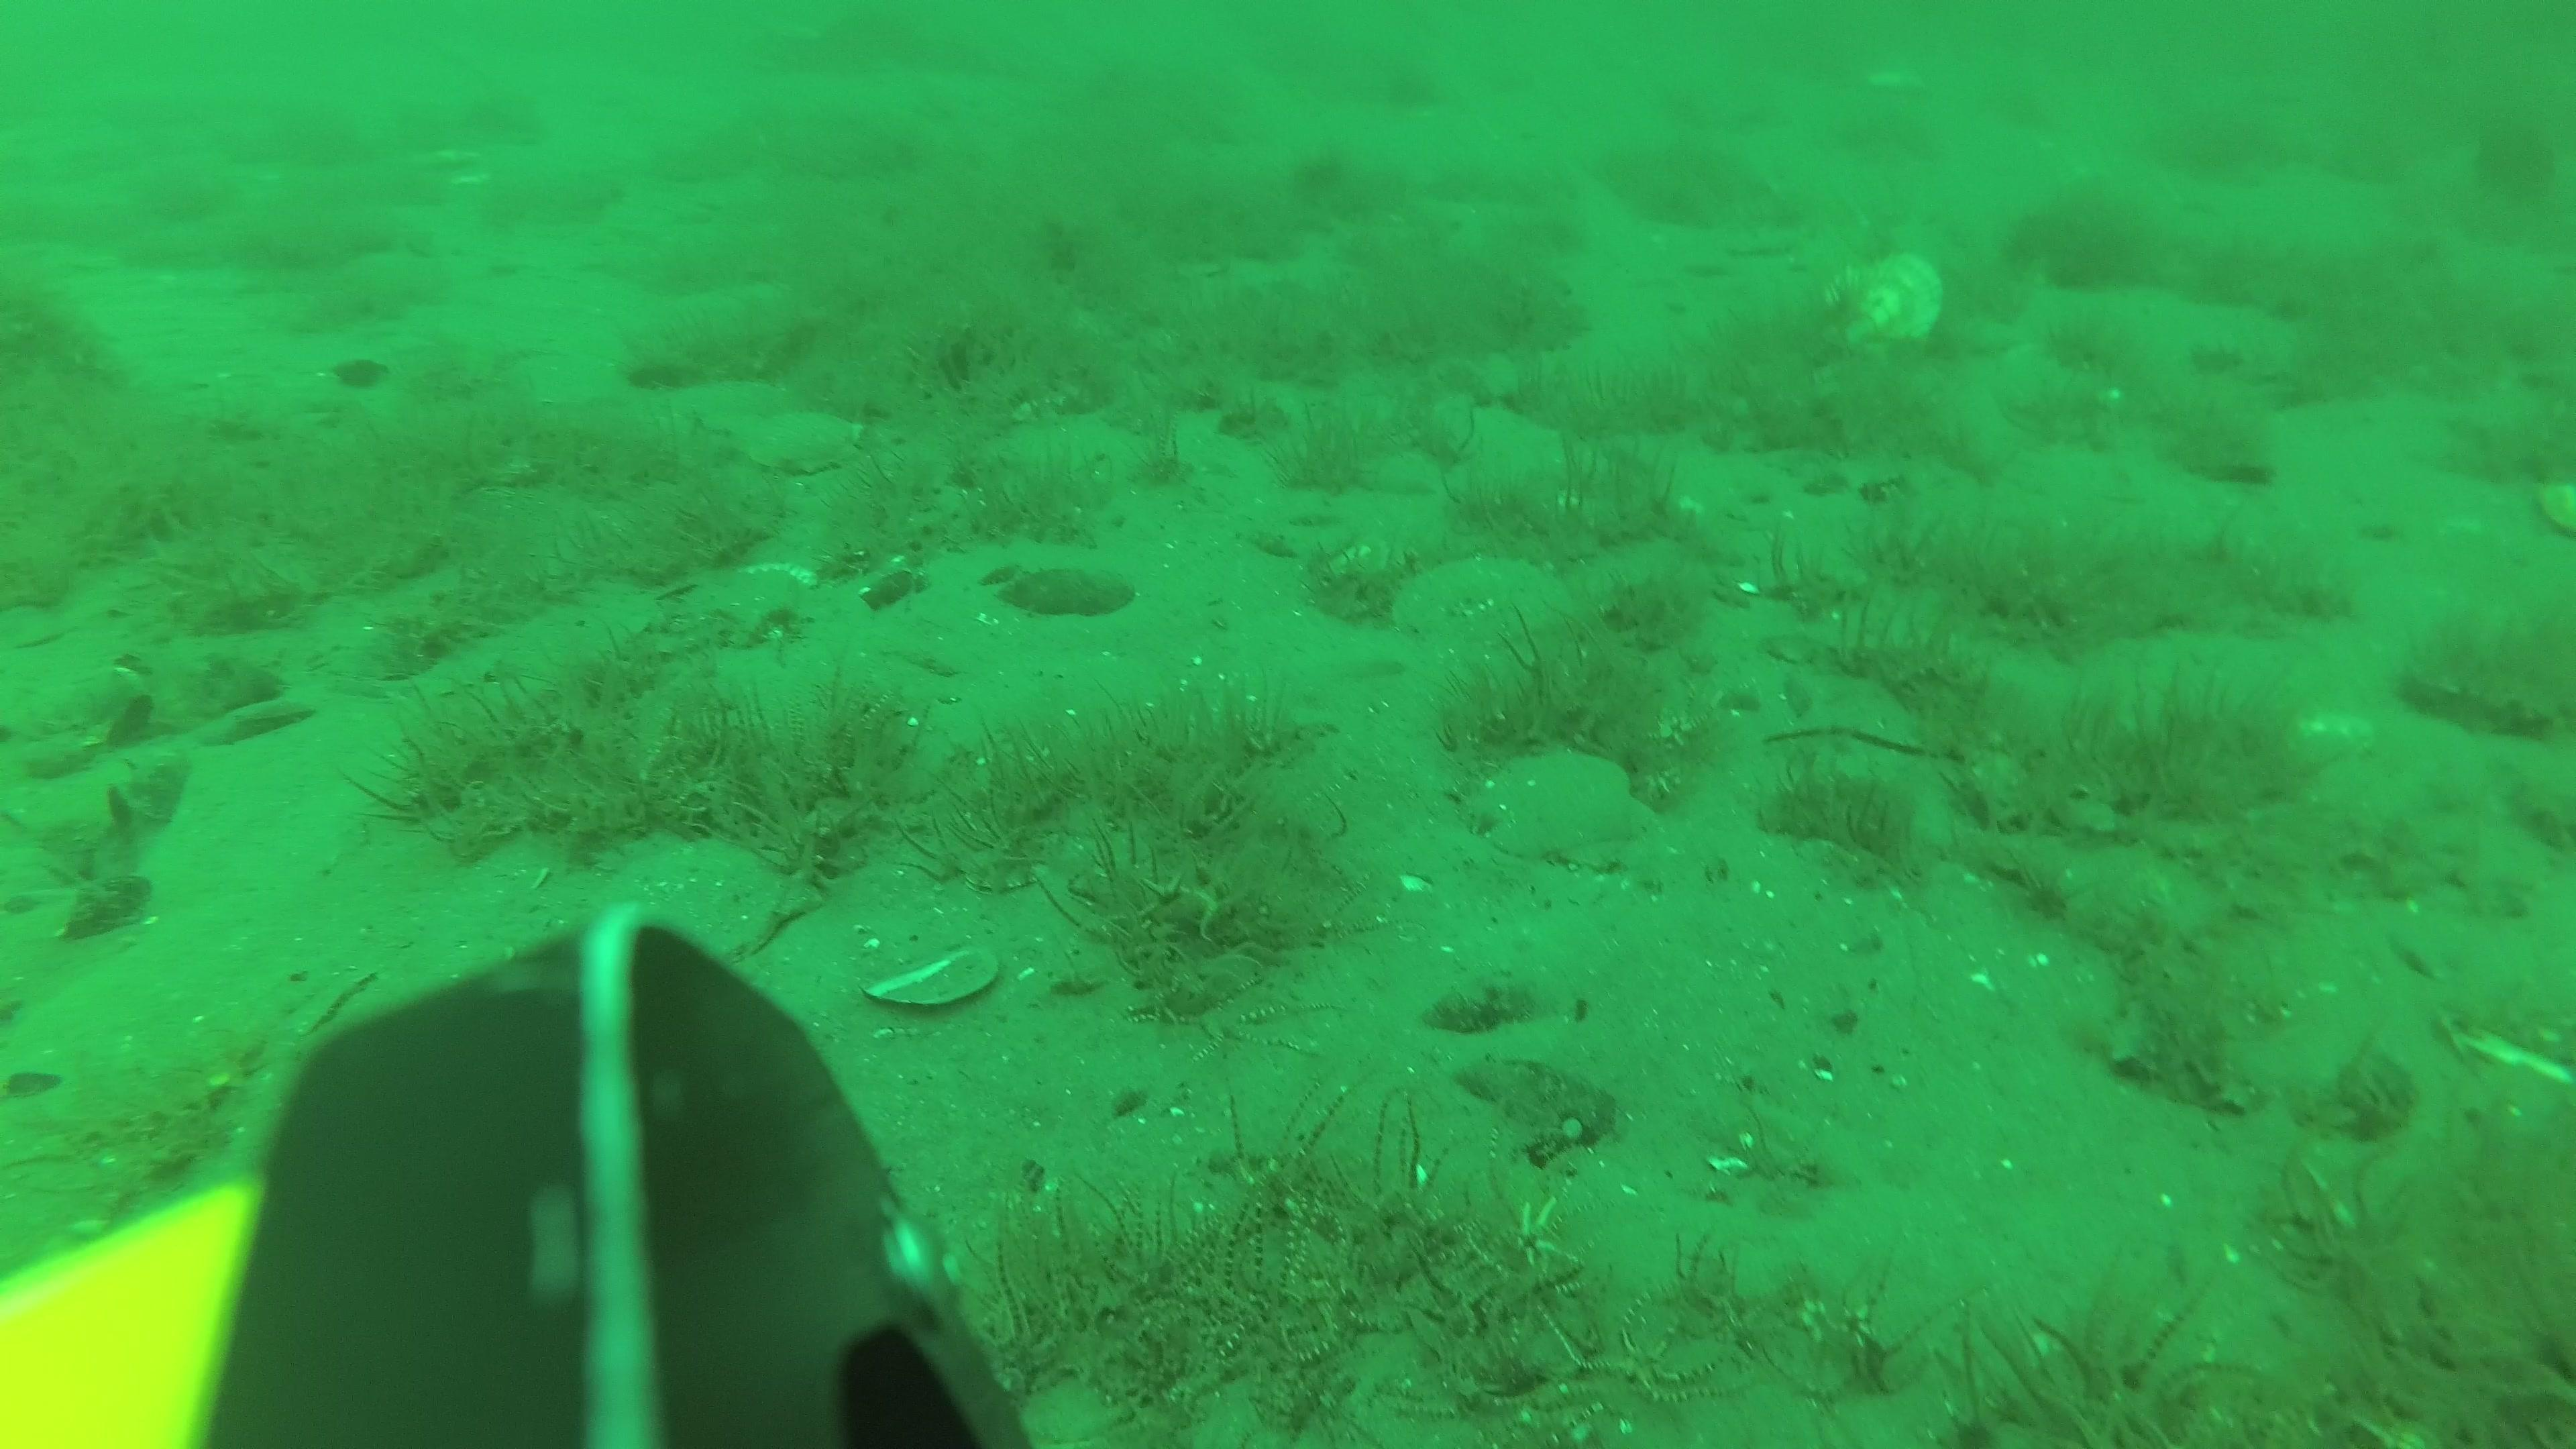scallop: (587, 840, 819, 977), (1461, 745, 1654, 863), (1821, 255, 1943, 352), (738, 400, 862, 474), (2530, 471, 2576, 534), (1865, 65, 1930, 94)
